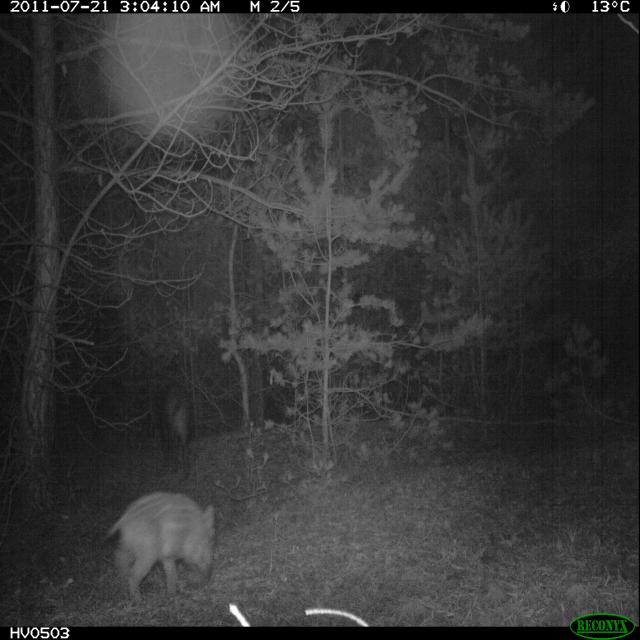boar: (93, 477, 235, 604), (145, 367, 211, 453)
